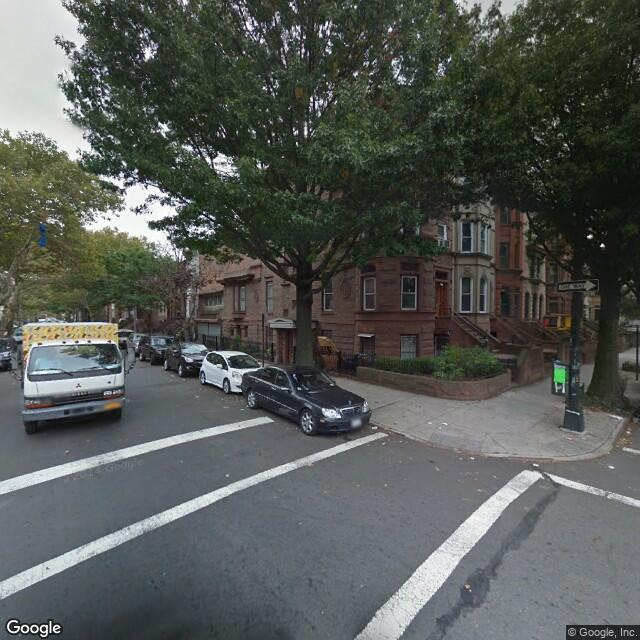litter: (609, 410, 623, 421), (369, 424, 382, 435), (426, 421, 434, 431), (530, 462, 541, 469), (608, 462, 615, 469), (442, 421, 448, 428), (192, 392, 198, 399), (223, 473, 232, 477), (468, 454, 475, 458), (236, 406, 242, 409)
